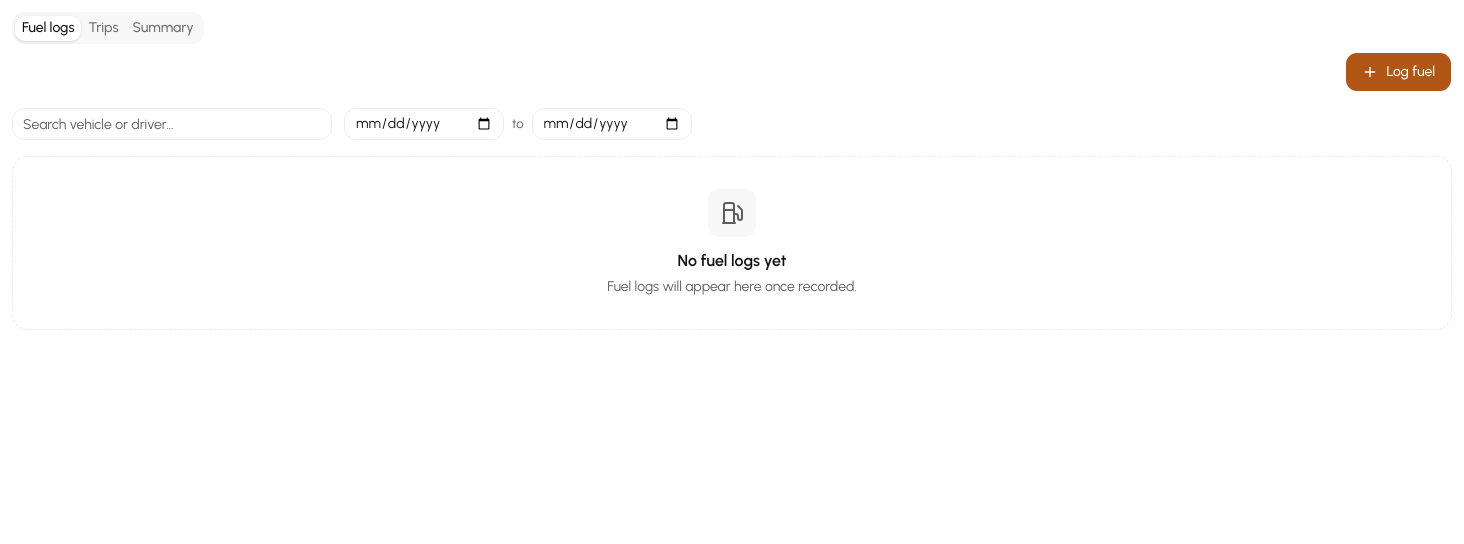
Fuel summary search › filters by plate, vehicle name or driver, and says so when nothing matches
The image size is (1464, 544).
Step 1. Click the tab "Summary" → coordinates (163, 28), box [125,16,201,40]
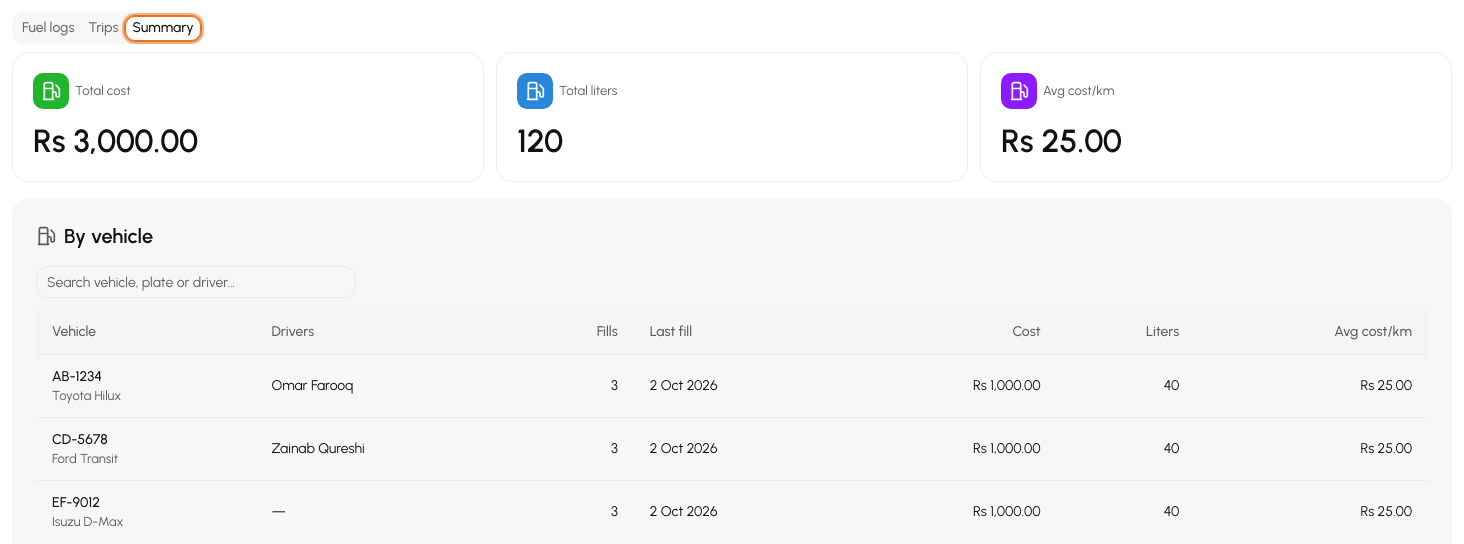
Step 2. Type "cd-5678" into the field named "Search the fuel summary" → coordinates (196, 282), box [36,266,356,298]
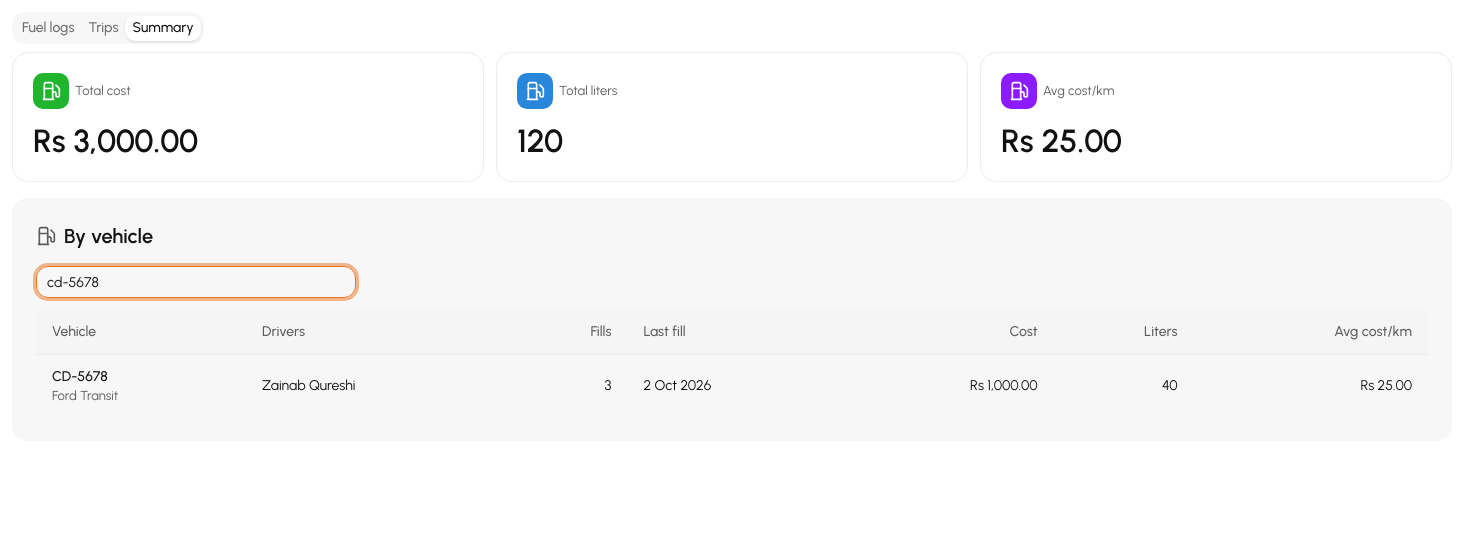
Result: the link "CD-5678" is shown at [52,368,108,384]
Result: the link "AB-1234" is gone
Step 3. Replace the text in the field named "Search the fuel summary" with "hilux" → coordinates (196, 282), box [36,266,356,298]
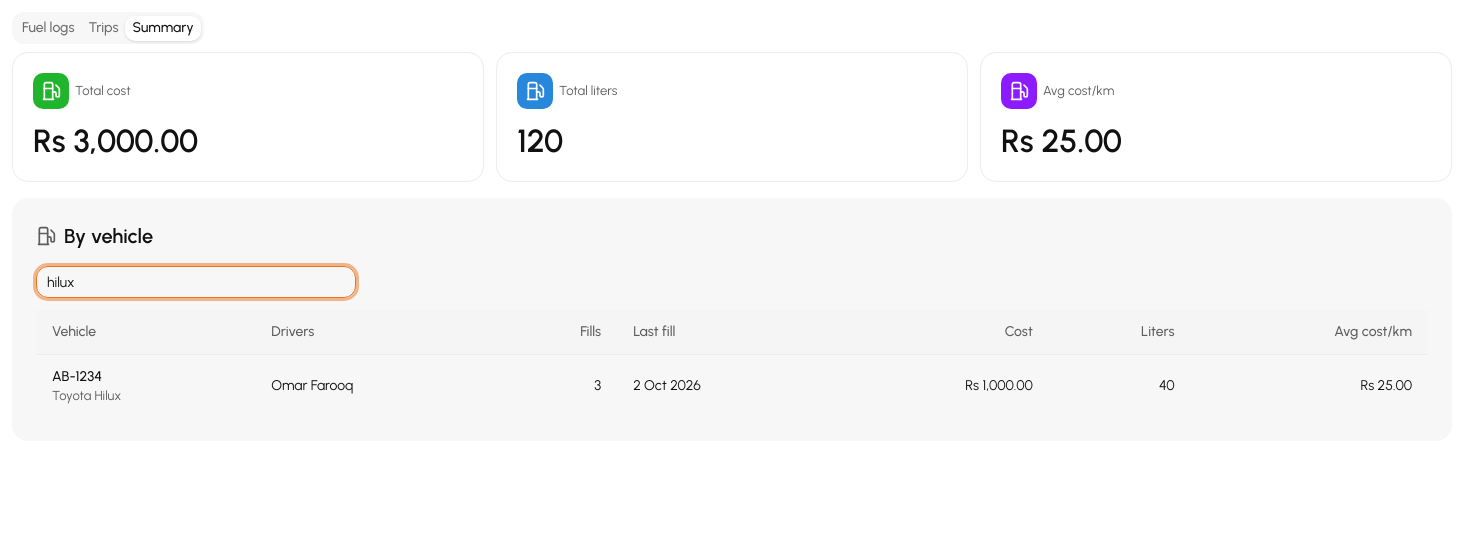
Expected: the link "CD-5678" is not shown
Result: the link "AB-1234" is shown at [52,368,102,384]
Step 4. Replace the text in the field named "Search the fuel summary" with "zainab" → coordinates (196, 282), box [36,266,356,298]
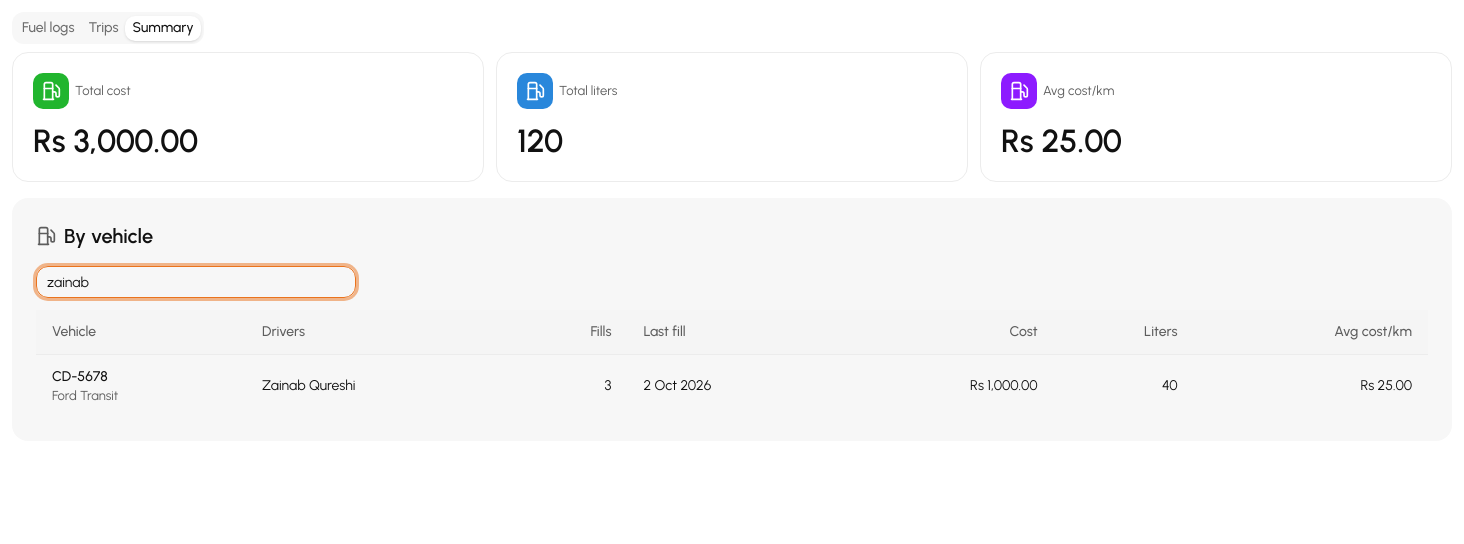
Expected: the link "EF-9012" is not shown
Result: the link "CD-5678" is shown at [52,368,108,384]
Step 5. Replace the text in the field named "Search the fuel summary" with "nobody" → coordinates (196, 282), box [36,266,356,298]
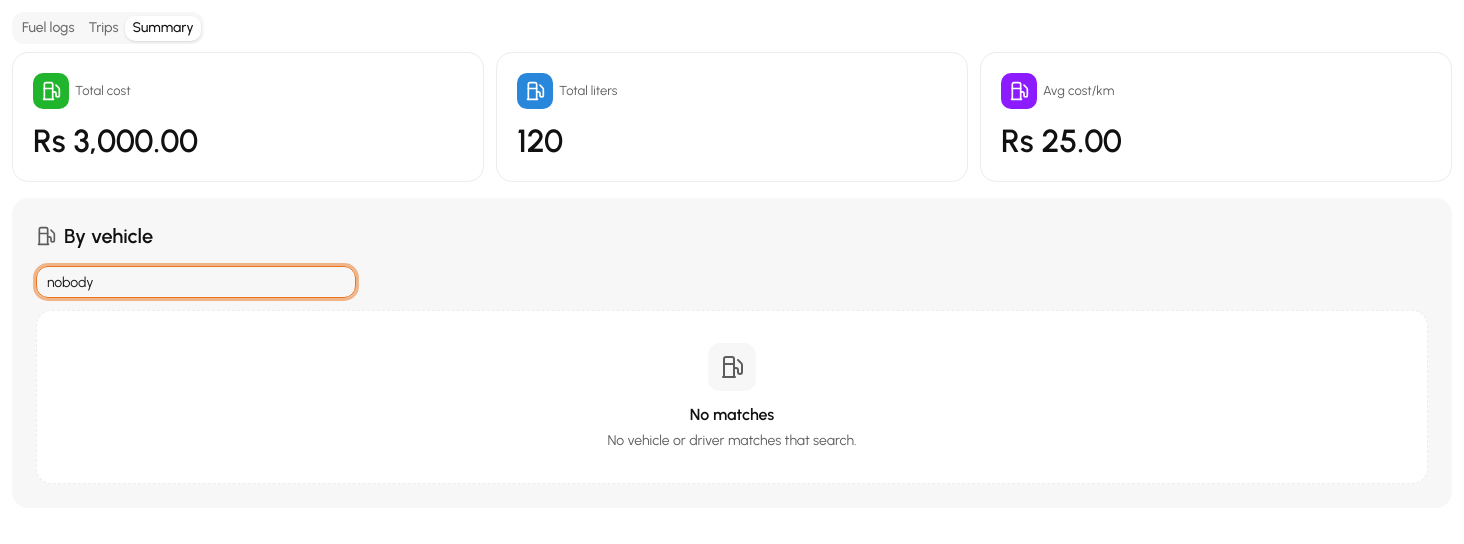
Result: the text "No matches" is shown at [690,405,774,424]
